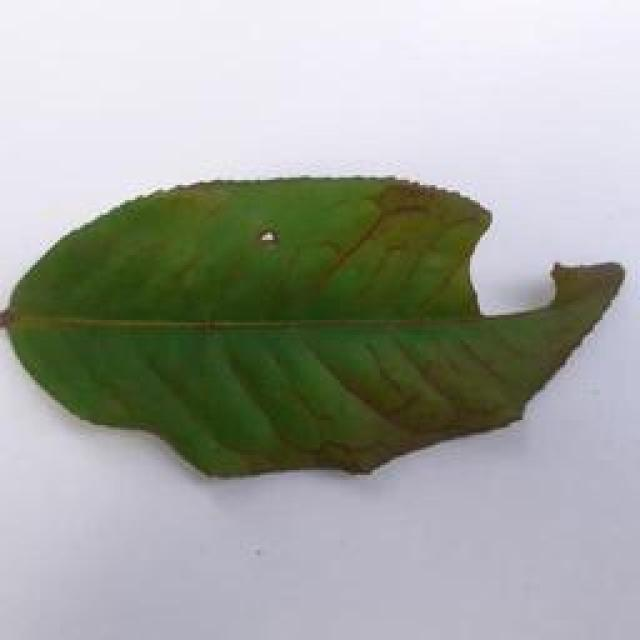Red Leaf Spot: (0, 137, 640, 497)
